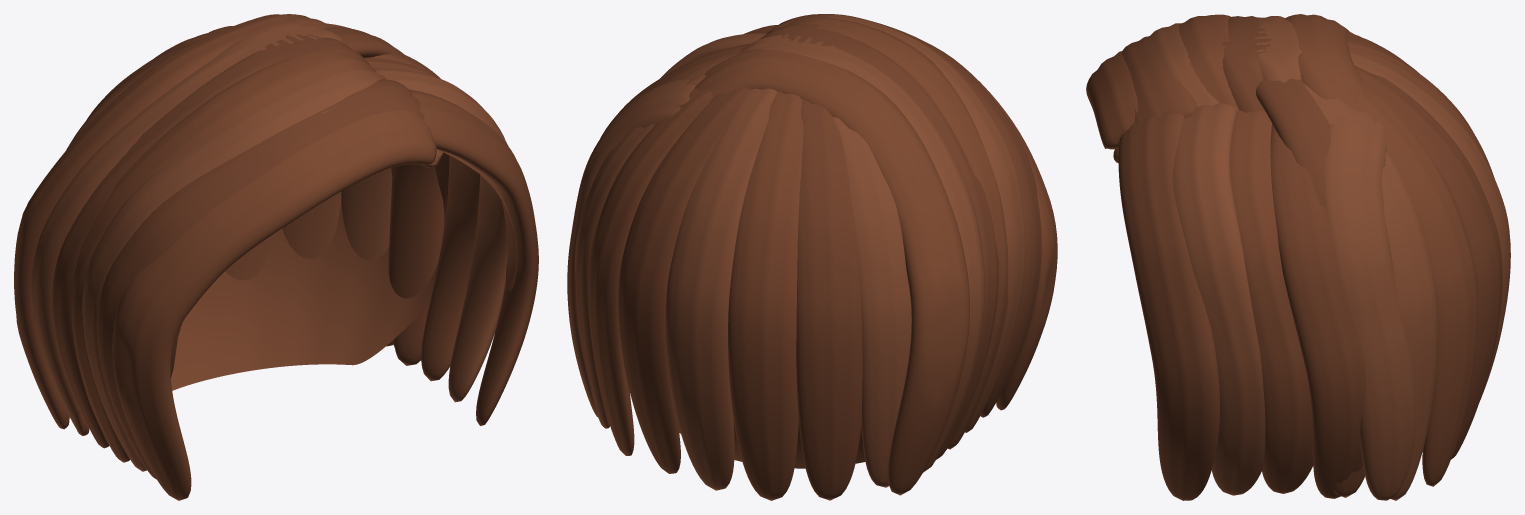
The model's file is bob-pashmina-default.glb.
The picture shows the model from 3 angles, left to right: view 1: azimuth 30°, elevation 25°; view 2: azimuth 150°, elevation 25°; view 3: azimuth 270°, elevation 25°; orthographic projection. The views are drawn at different scales.
Visible parts, largest first — view 1: 226 hair / Hair / sculpted 0.004, 226 hair / Hair / sculpted 1.005, 226 hair / Hair / sculpted 2.004, 226 hair / Hair / sculpted 1; view 2: 226 hair / Hair / sculpted 0.004, 226 hair / Hair / sculpted 2.004, 226 hair / Hair / sculpted 1.005, 226 hair / Hair / sculpted 1; view 3: 226 hair / Hair / sculpted 1.005, 226 hair / Hair / sculpted 2.004, 226 hair / Hair / sculpted 0.004.
Boxes of the visible parts, <box> form: 226 hair / Hair / sculpted 0.004: <box>14,14,479,500</box>; 226 hair / Hair / sculpted 1.005: <box>52,27,538,479</box>; 226 hair / Hair / sculpted 2.004: <box>31,21,508,471</box>; 226 hair / Hair / sculpted 1: <box>170,152,517,390</box>; 226 hair / Hair / sculpted 0.004: <box>588,17,1057,500</box>; 226 hair / Hair / sculpted 2.004: <box>567,14,1026,490</box>; 226 hair / Hair / sculpted 1.005: <box>600,14,1041,500</box>; 226 hair / Hair / sculpted 1: <box>678,420,865,468</box>; 226 hair / Hair / sculpted 1.005: <box>1118,16,1502,500</box>; 226 hair / Hair / sculpted 2.004: <box>1144,16,1510,500</box>; 226 hair / Hair / sculpted 0.004: <box>1086,14,1494,493</box>.
Bounding box in the file's own units: 0.8252 × 0.7385 × 0.7108.
